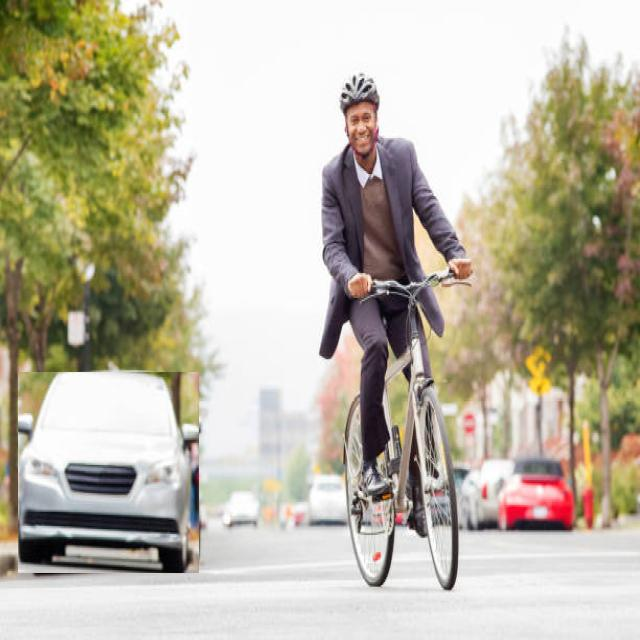bicycle: (320, 75, 472, 588)
car: (19, 373, 199, 573)
